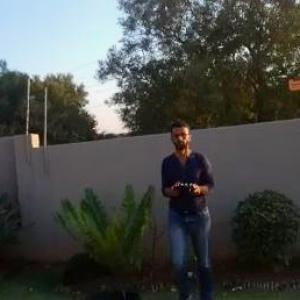follow: (150, 120, 215, 299)
null: (68, 285, 148, 299)
